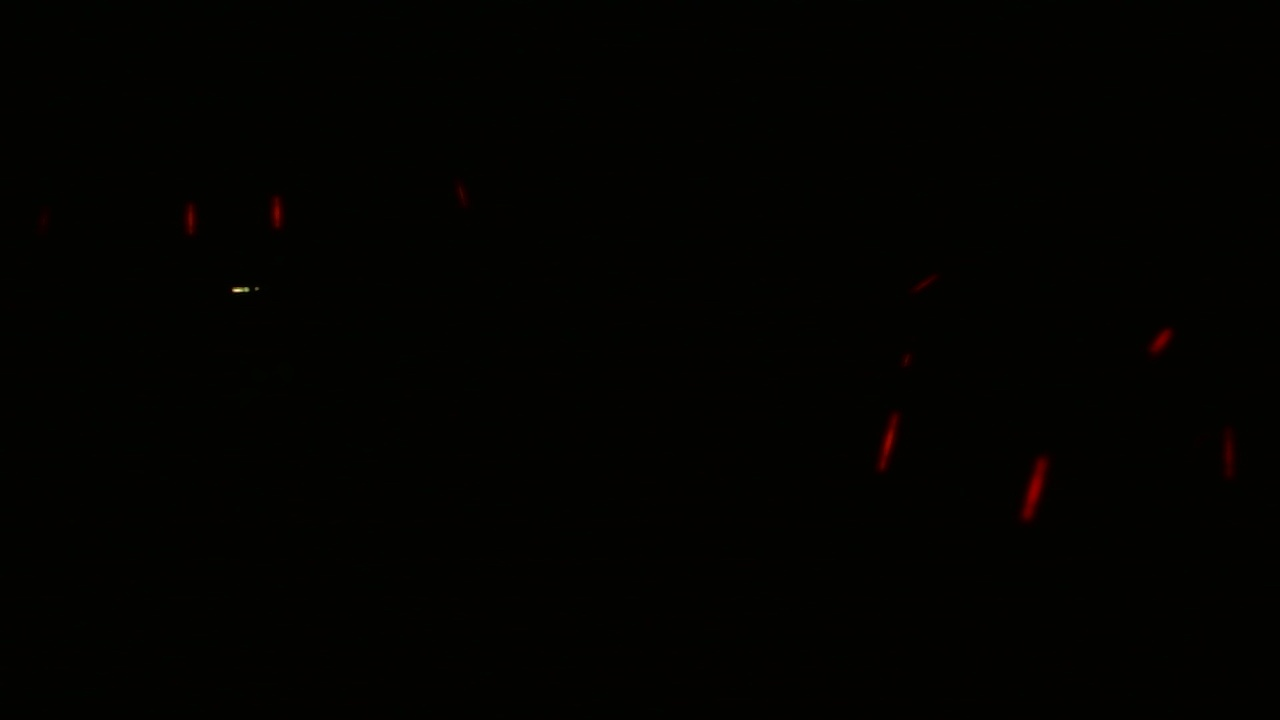pair1: (873, 403, 1047, 519), (177, 191, 284, 248)
